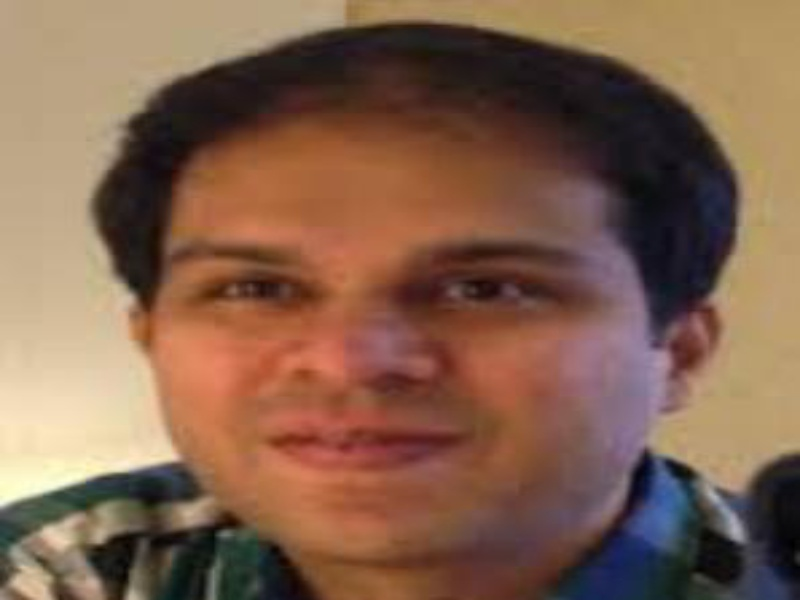TsisyArotava: (63, 29, 756, 578)
